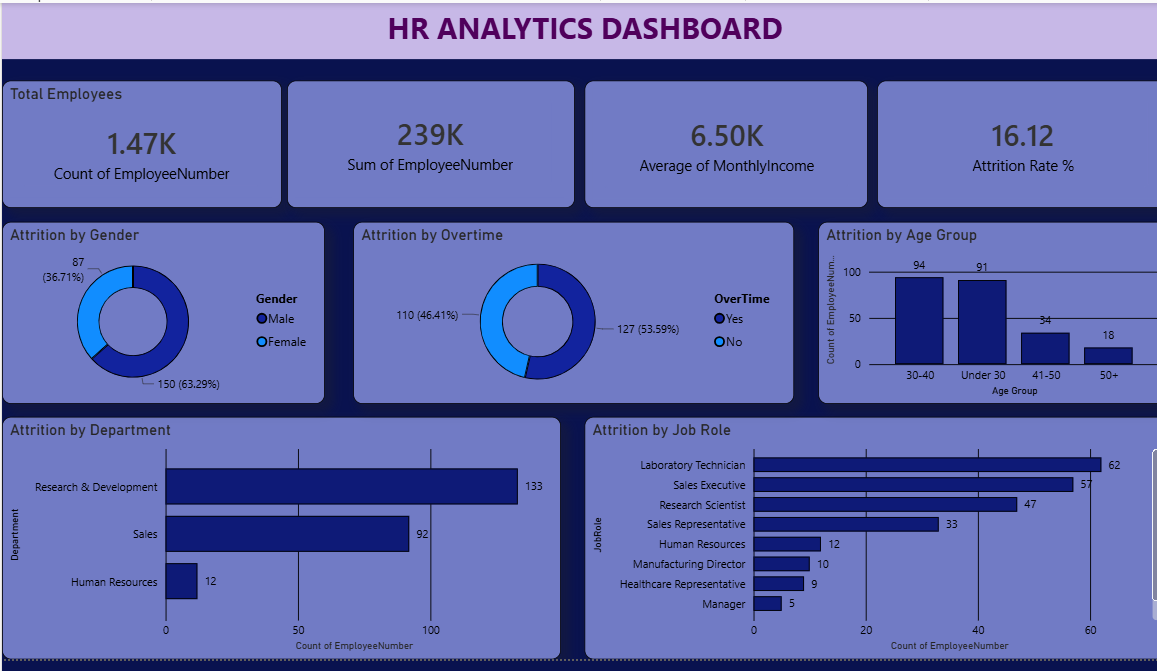

What the dashboard file says about the page in this screenshot:
{"tool":"powerbi","page":{"name":"Page 1","canvas":[1280,720],"ordinal":0},"visuals":[{"type":"cardVisual","title":"Total Employees","fields":{"Data":["CountNonNull(HR_Employee_Attrition_Cleaned.EmployeeNumber)"]},"box":[0,85.1,307.4,140],"z":0},{"type":"cardVisual","fields":{"Data":["Sum(HR_Employee_Attrition_Cleaned.EmployeeNumber)"]},"box":[312.9,85.1,315.6,140],"z":1000},{"type":"cardVisual","fields":{"Data":["Avg(HR_Employee_Attrition_Cleaned.MonthlyIncome)"]},"box":[639.5,85.1,311.5,140],"z":2000},{"type":"cardVisual","fields":{"Data":["HR_Employee_Attrition_Cleaned.Attrition Rate %"]},"box":[960.6,85.1,319.7,140],"z":3000},{"type":"clusteredBarChart","title":"Attrition by Department","fields":{"Category":["HR_Employee_Attrition_Cleaned.Department"],"Y":["CountNonNull(HR_Employee_Attrition_Cleaned.EmployeeNumber)"]},"box":[0,454.2,613.4,266.2],"z":4000},{"type":"clusteredBarChart","title":"Attrition by Job Role","fields":{"Category":["HR_Employee_Attrition_Cleaned.JobRole"],"Y":["CountNonNull(HR_Employee_Attrition_Cleaned.EmployeeNumber)"]},"box":[639.5,454.2,640.8,266.2],"z":5000},{"type":"donutChart","title":"Attrition by Overtime","fields":{"Category":["HR_Employee_Attrition_Cleaned.OverTime"],"Y":["CountNonNull(HR_Employee_Attrition_Cleaned.EmployeeNumber)"]},"box":[385.6,240.1,484.4,200.3],"z":6000},{"type":"clusteredColumnChart","title":"Attrition by Age Group","fields":{"Category":["HR_Employee_Attrition_Cleaned.Age Group"],"Y":["CountNonNull(HR_Employee_Attrition_Cleaned.EmployeeNumber)"]},"box":[896.1,240.1,384.2,200.3],"z":6001},{"type":"donutChart","title":"Attrition by Gender","fields":{"Category":["HR_Employee_Attrition_Cleaned.Gender"],"Y":["CountNonNull(HR_Employee_Attrition_Cleaned.EmployeeNumber)"]},"box":[0,240.1,354,200.3],"z":6002},{"type":"textbox","box":[0,0,1280.3,61.7],"z":6003}]}

Visuals, with their boxes in screenshot pixels (x1, y1, x2, y2):
"Total Employees" cardVisual: (0,76,281,205)
cardVisual - Sum(HR_Employee_Attrition_Cleaned.EmployeeNumber): (286,76,578,205)
cardVisual - Avg(HR_Employee_Attrition_Cleaned.MonthlyIncome): (588,76,876,205)
cardVisual - HR_Employee_Attrition_Cleaned.Attrition Rate %: (885,76,1156,205)
"Attrition by Department" clusteredBarChart: (0,417,564,663)
"Attrition by Job Role" clusteredBarChart: (588,417,1156,663)
"Attrition by Overtime" donutChart: (353,219,801,404)
"Attrition by Age Group" clusteredColumnChart: (825,219,1156,404)
"Attrition by Gender" donutChart: (0,219,324,404)
textbox: (0,0,1156,54)
